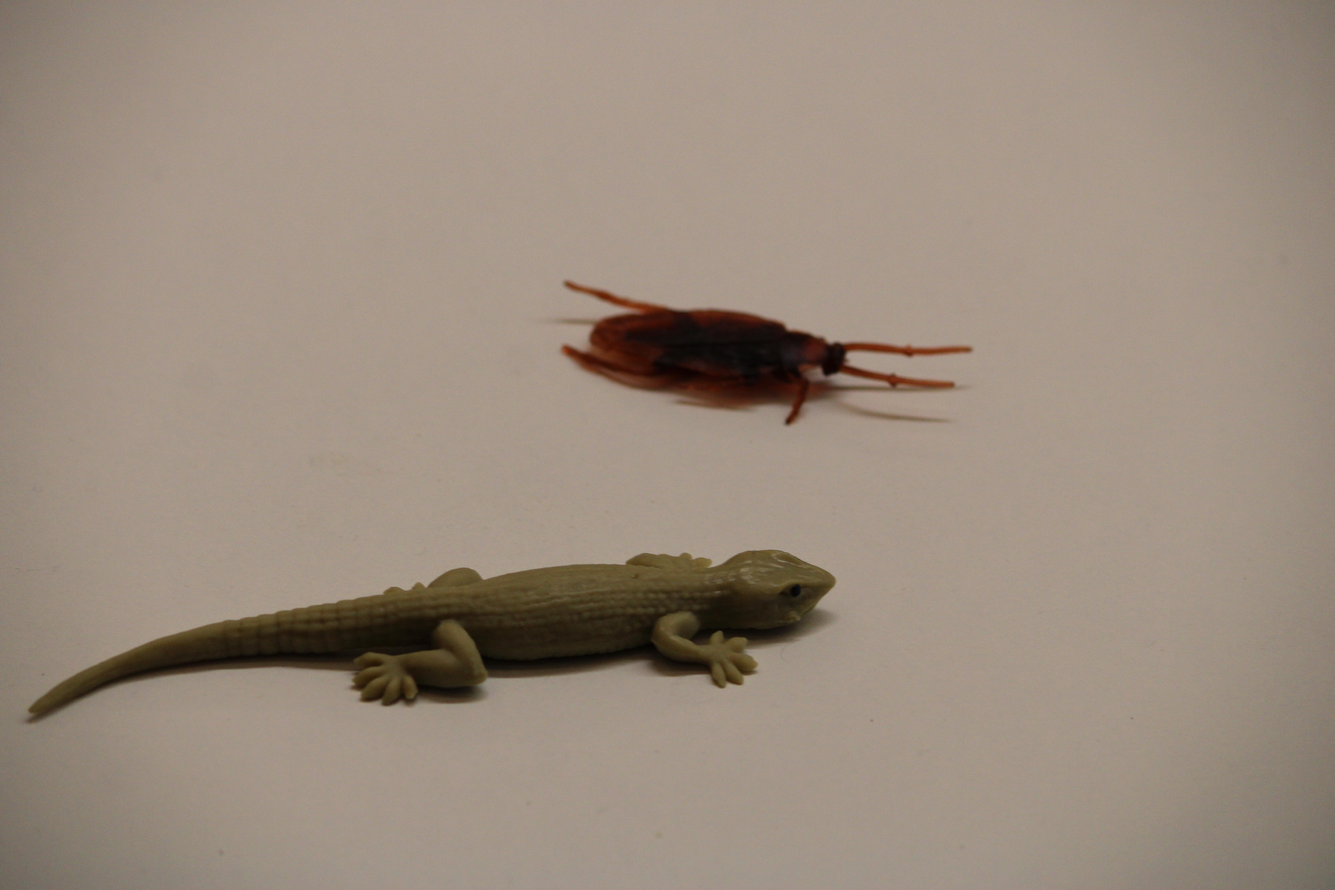cockroach: (541, 263, 977, 442)
lizard: (14, 537, 843, 744)
